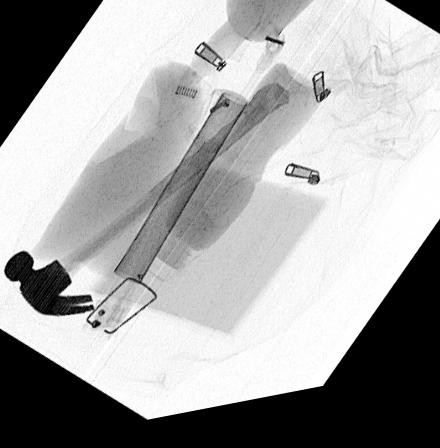Hammer: (0, 92, 290, 319)
